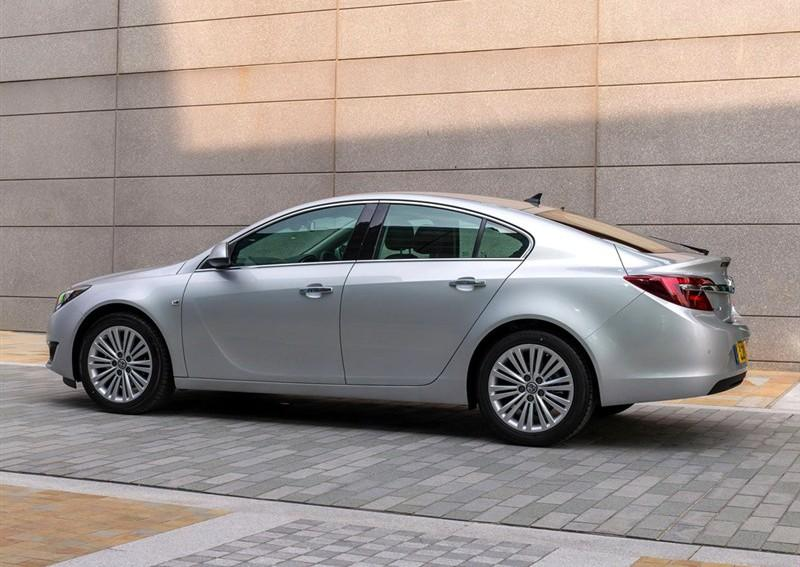Wagon: (46, 190, 751, 446)
